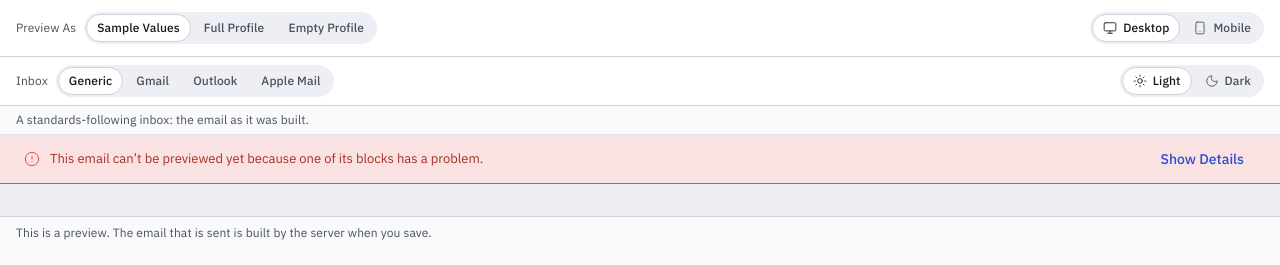
Scenario: broken email code is one plain line, the compiler text behind Show Details, and no half-rendered email
This screenshot has width=1280, height=265.
Check: the message shows "This email can’t be previewed yet because one of its blocks has a problem.", box [50, 150, 483, 167]
Check: the text "mj-text cannot be used" is not shown
Click the button "Show Details". click: (1202, 159)
box: [1148, 143, 1256, 175]
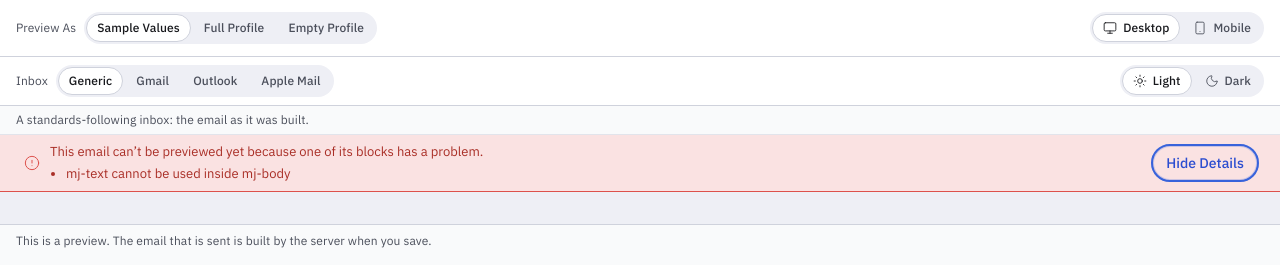
Check: the list item "mj-text cannot be used inside mj-body" is shown, box [66, 165, 290, 182]
